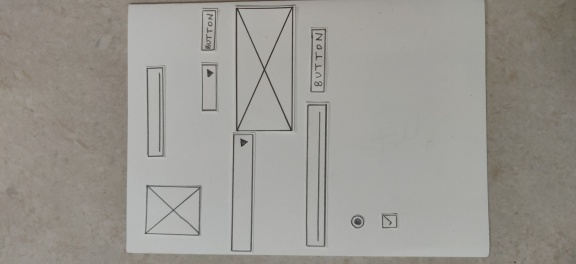button: (308, 24, 328, 95), (198, 6, 219, 55)
checkbox: (377, 209, 401, 232)
dropdown: (229, 133, 255, 253), (197, 61, 221, 114)
img: (232, 3, 297, 134), (142, 182, 204, 239)
radio: (348, 211, 366, 230)
text: (302, 100, 329, 250), (143, 63, 168, 160)
